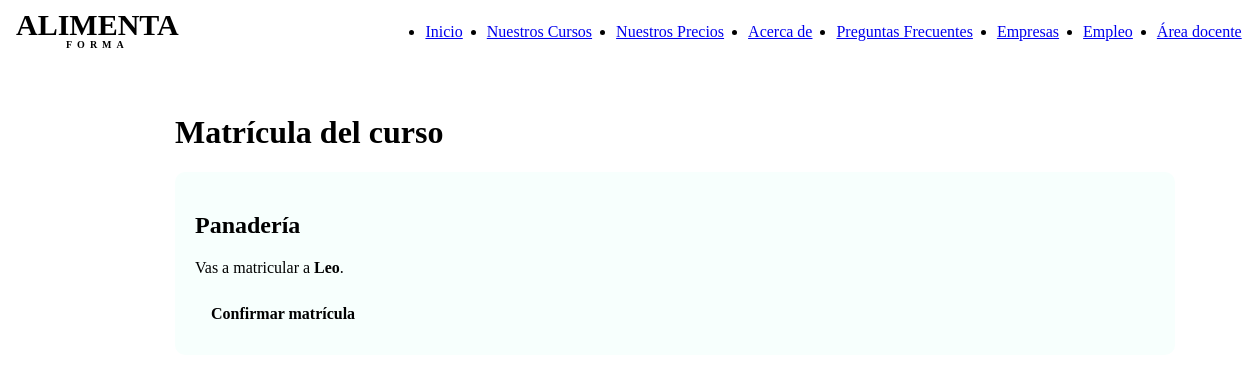
recorridos del alumno › presenta la matrícula duplicada como estado esperado
The image size is (1259, 385).
Click the button "Confirmar matrícula" at coordinates (283, 314), box [195,293,371,335]
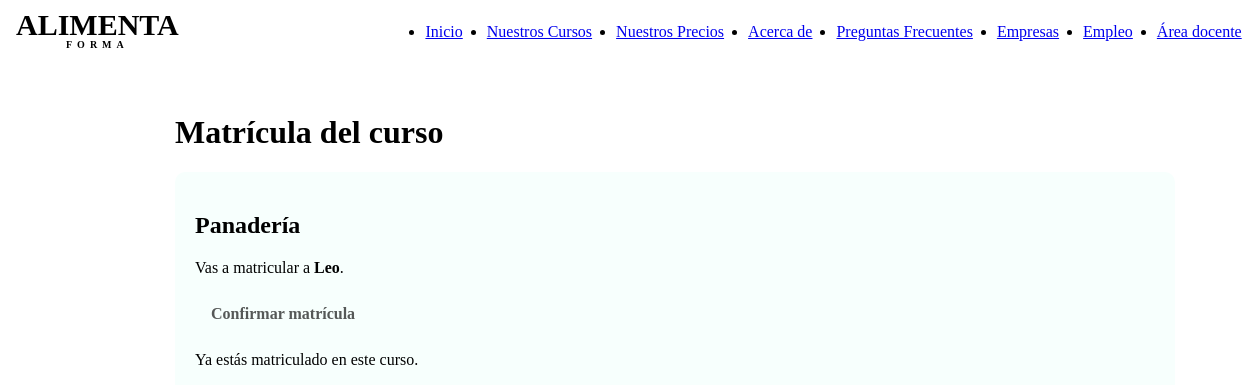
Now the message shows "Ya estás matriculado", box [195,351,418,368]
